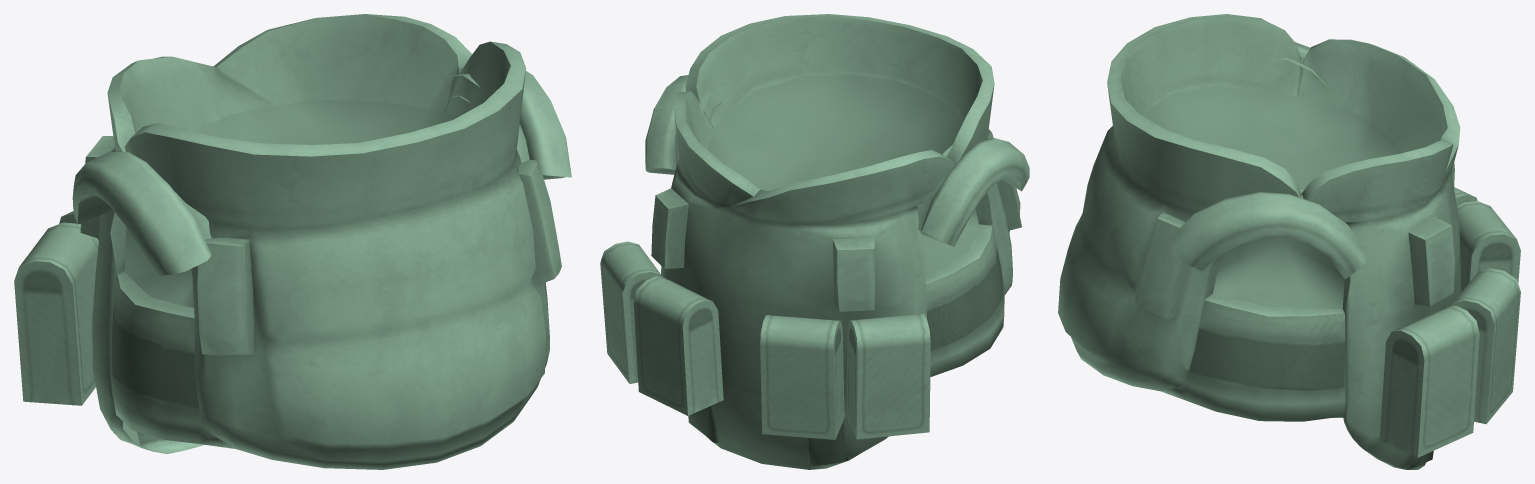
File: IG_Armor_Lv3-2.fbx
The picture shows the model from 3 angles, left to right: view 1: azimuth 30°, elevation 25°; view 2: azimuth 150°, elevation 25°; view 3: azimuth 270°, elevation 25°; orthographic projection. The views are drawn at different scales.
Visible parts, largest first — view 1: Clothes_LV3_2; view 2: Clothes_LV3_2; view 3: Clothes_LV3_2.
Boxes of the visible parts, left/top/right/bottom form: Clothes_LV3_2: left=14, top=14, right=571, bottom=469; Clothes_LV3_2: left=600, top=14, right=1029, bottom=469; Clothes_LV3_2: left=1058, top=14, right=1520, bottom=469.
Bounding box in the file's own units: 0.6445 × 0.6224 × 0.7122.
1 material, 1 textured.
